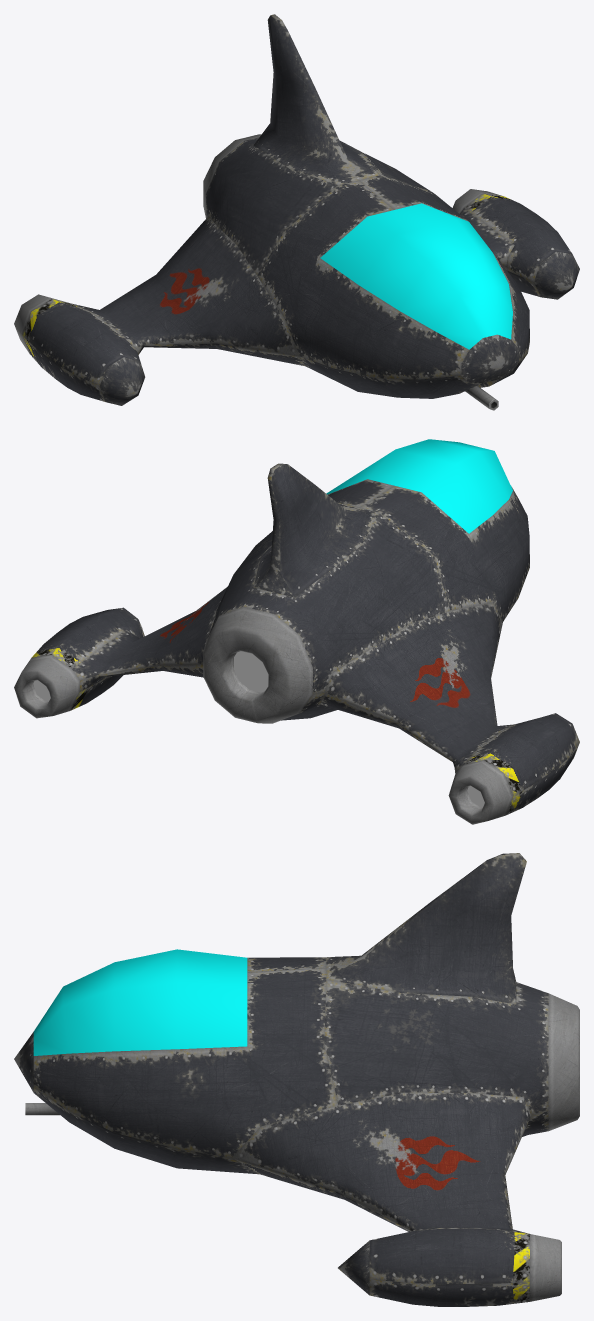
File: Missile.fbx
The picture shows the model from 3 angles, top to bottom: view 1: azimuth 30°, elevation 25°; view 2: azimuth 150°, elevation 25°; view 3: azimuth 270°, elevation 25°; orthographic projection. The views are drawn at different scales.
Visible parts, largest first — view 1: shipA; view 2: shipA; view 3: shipA.
Part boxes in pixels (left/top/right/bottom): shipA: left=14, top=14, right=579, bottom=410; shipA: left=14, top=439, right=579, bottom=824; shipA: left=14, top=853, right=579, bottom=1306.
Size of the model in its own units: 699 by 400 by 615.
